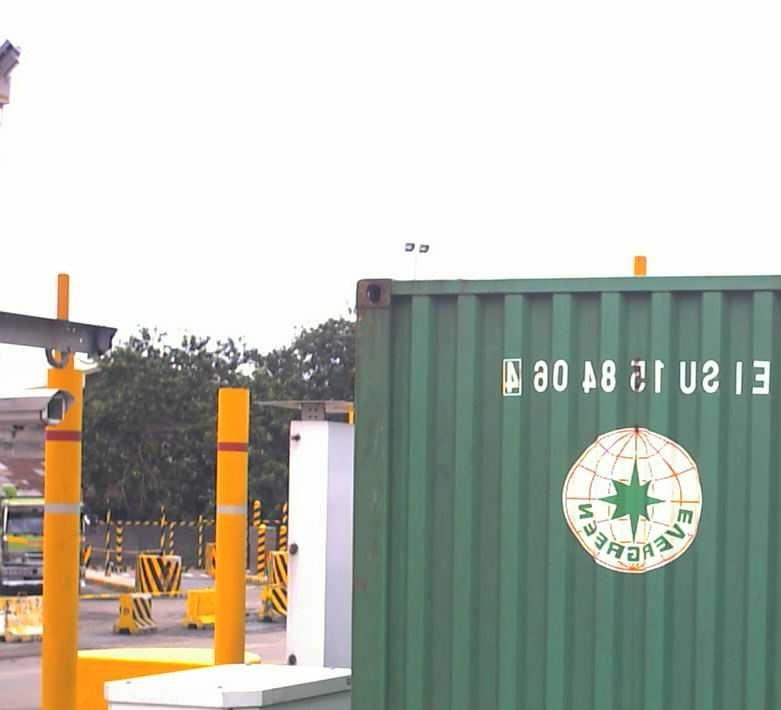container_no_door: (350, 275, 780, 710)
